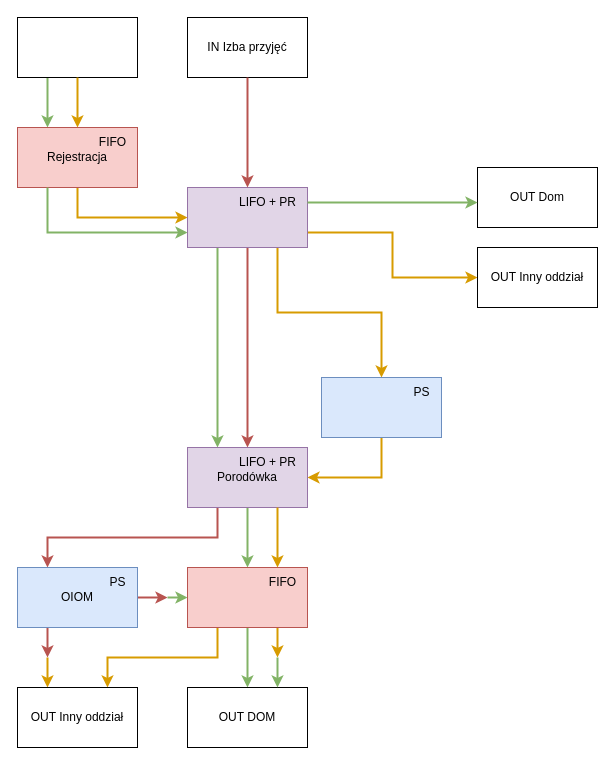
This 615x765 diagram has some shape labels left out. Here are the shapes that lost their labels. From the top down, the box of each, then its label:
(16, 16, 138, 78): IN Rejestracja
(186, 186, 308, 248): Izba przyjęcia
(320, 376, 442, 438): Odział gineklogiczny
(186, 566, 308, 628): Sala poporodowa
